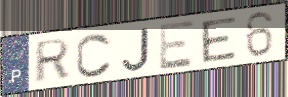6: (244, 9, 276, 60)
C: (74, 31, 114, 79)
E: (157, 18, 196, 72), (199, 15, 239, 65)
J: (120, 26, 152, 73)
R: (32, 36, 73, 86)
